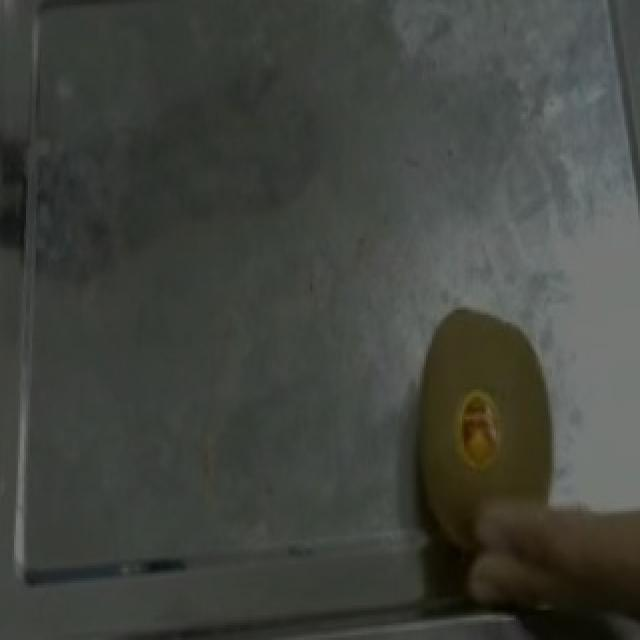Fruit: (382, 300, 582, 583)
